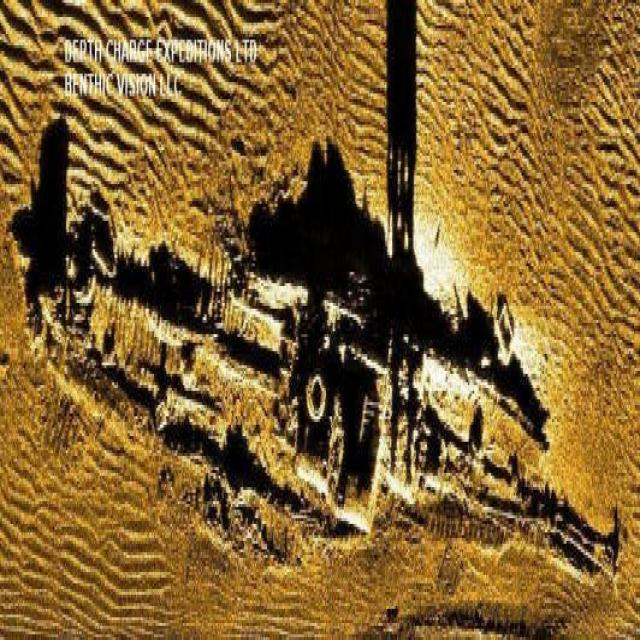ship: (43, 207, 622, 598)
